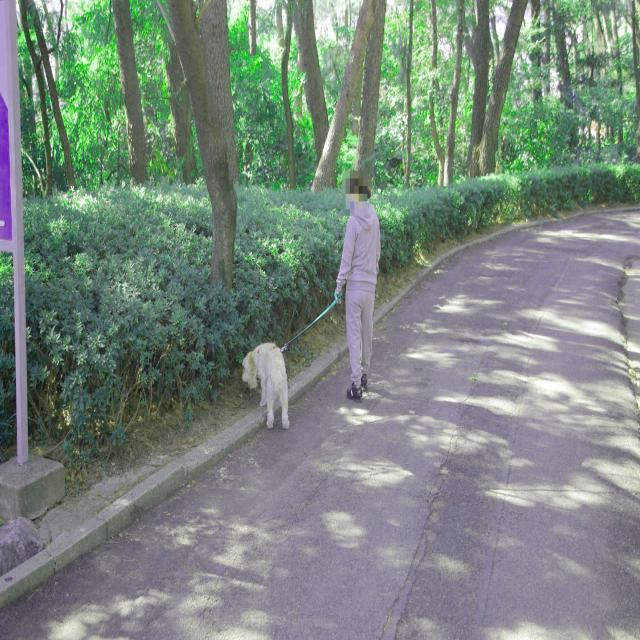Leashed_Dog: (241, 291, 360, 429)
